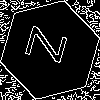Z: (25, 25, 77, 68)
